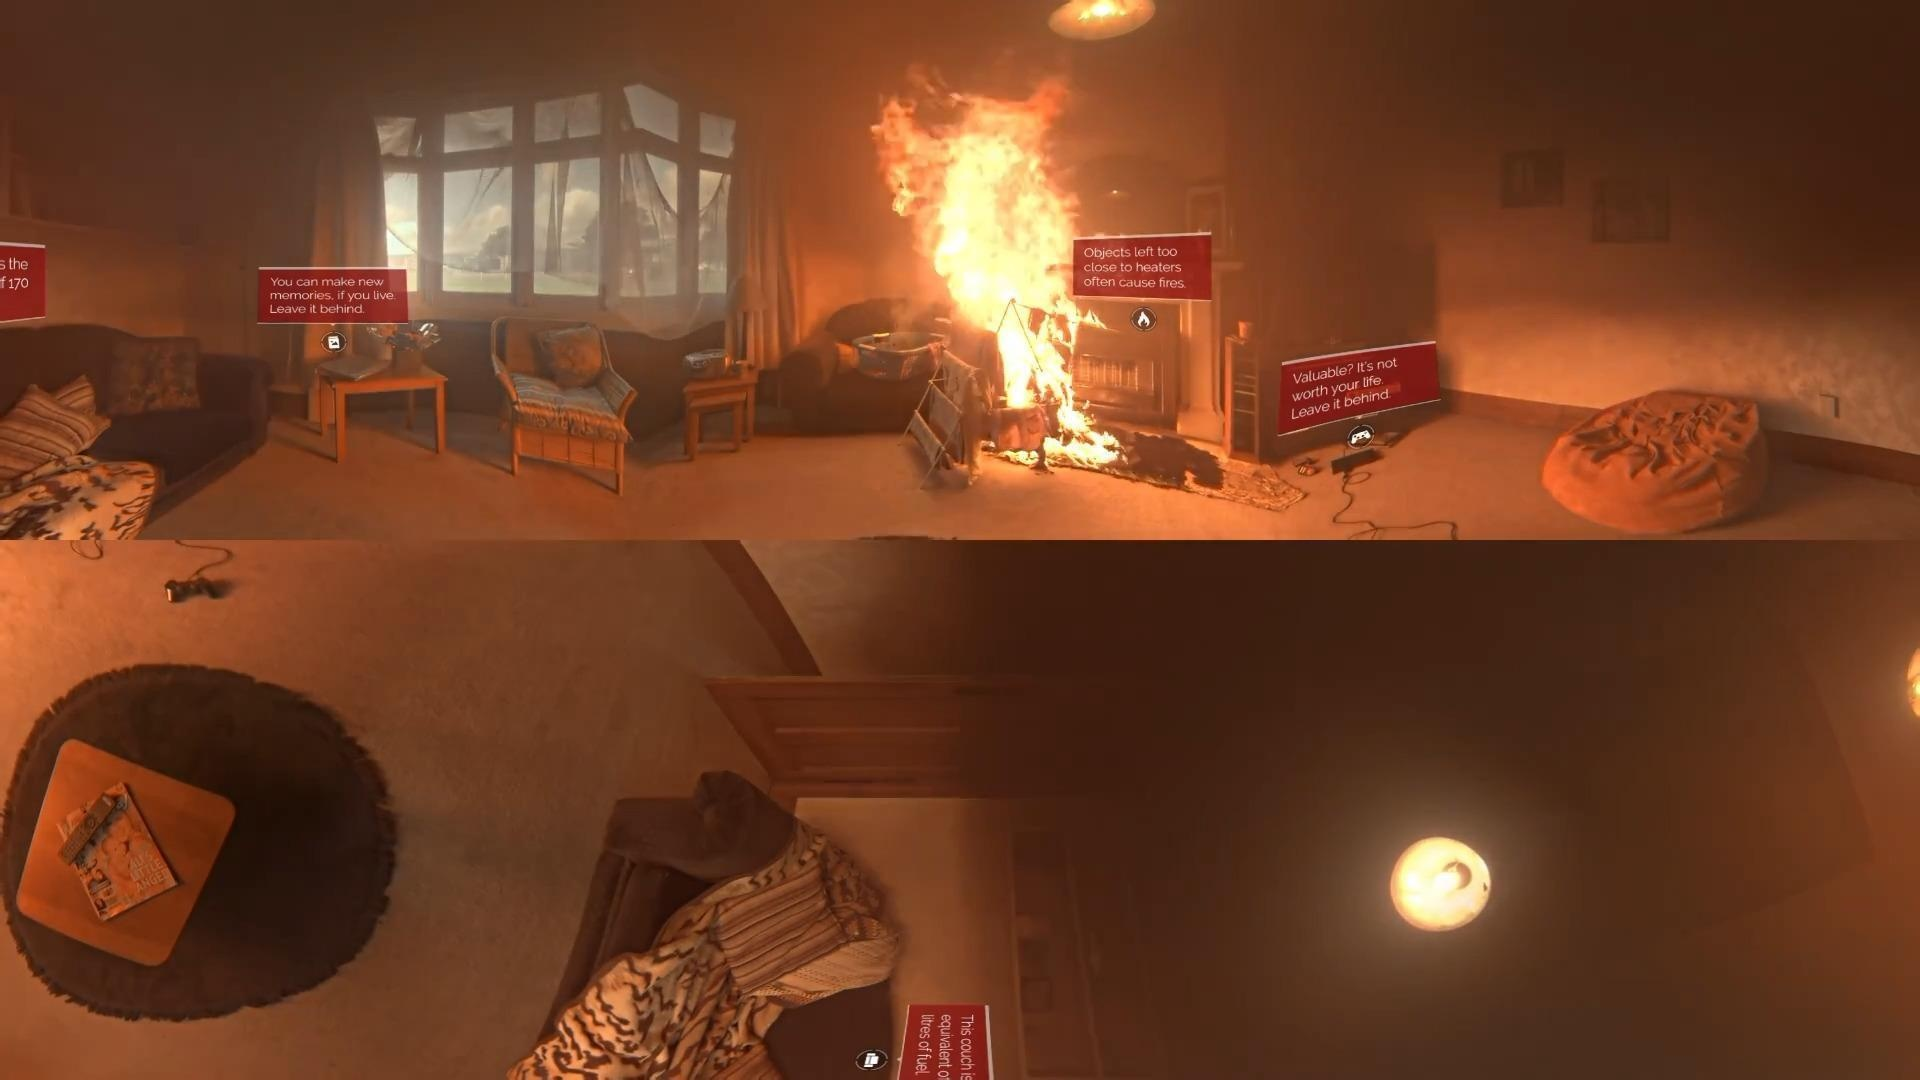fire: (860, 66, 1118, 444)
